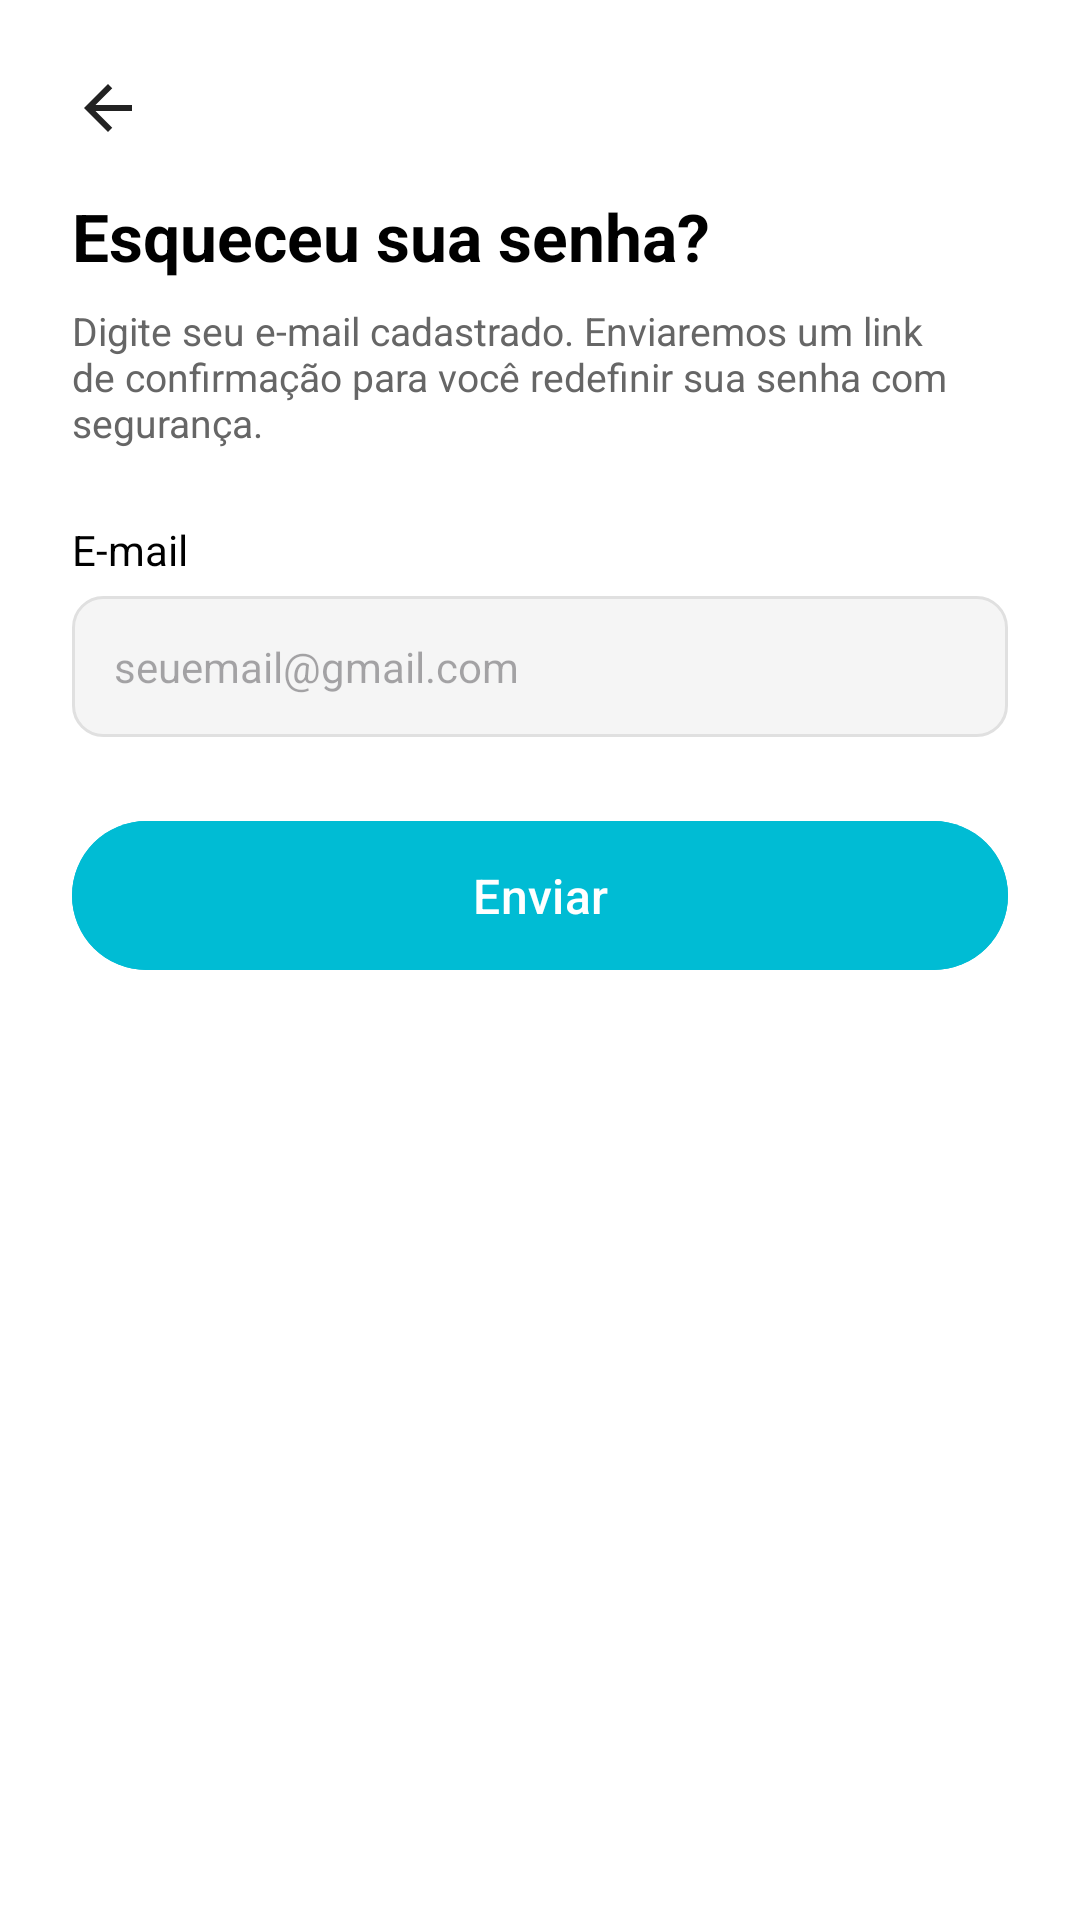

Named icons in this screenshot (1080 × 1920) and their bounding boxes, (x1, y1, x2, y2):
Voltar: (84, 84, 132, 132)
